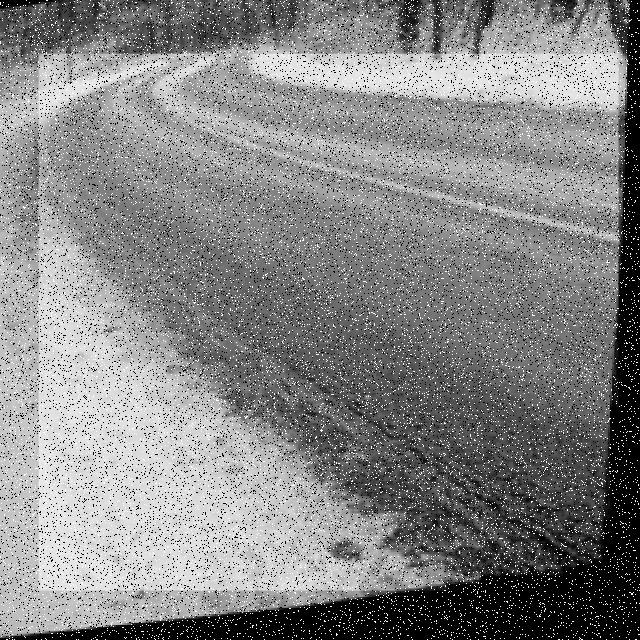ice-road: (39, 56, 619, 591)
